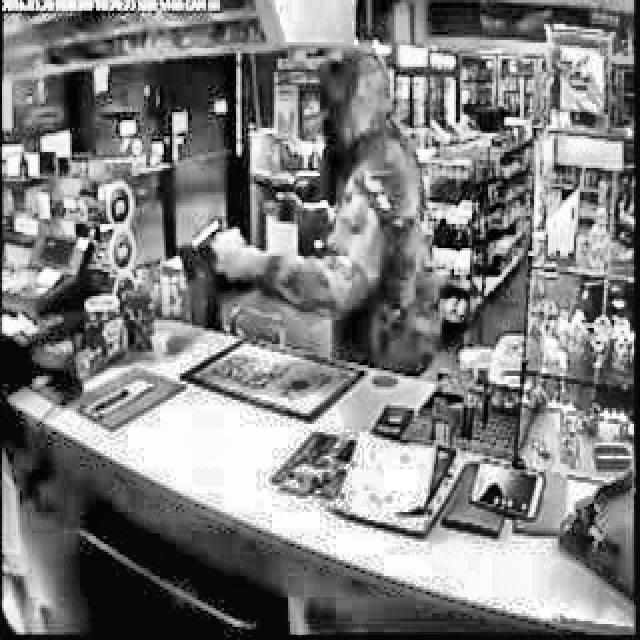robbery: (184, 48, 442, 390)
